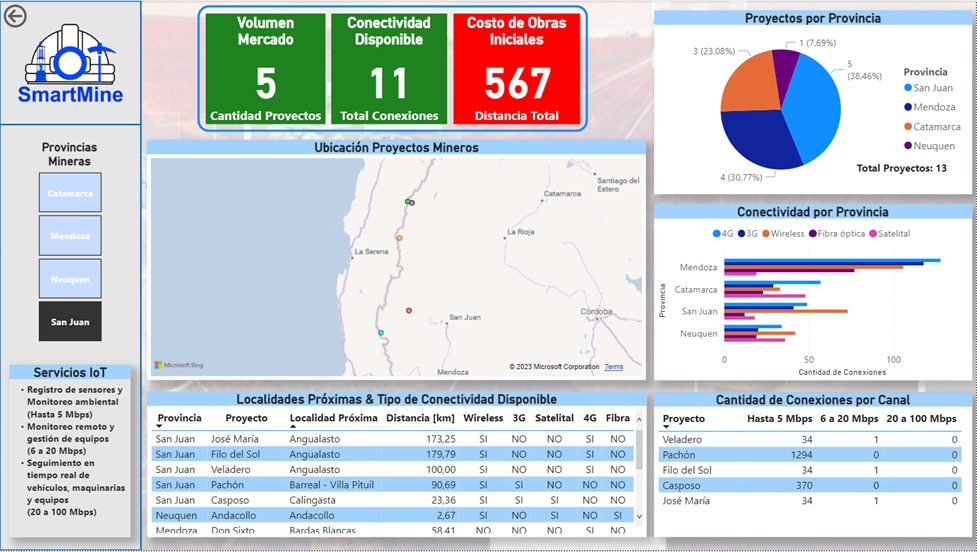

Layout of this report page (visuals, bound fields, positions):
{"tool":"powerbi","page":{"name":"Análisis","canvas":[1280,720],"ordinal":2},"visuals":[{"type":"shape","box":[0,0,184.6,720.2],"z":0},{"type":"shape","box":[259.3,6,512.3,166.5],"z":1000},{"type":"actionButton","box":[0,0,100,40],"z":2000},{"type":"map","title":"Ubicación Proyectos Mineros","fields":{"Y":["proy_mineros_tecno.Latitud"],"X":["proy_mineros_tecno.Longitud"],"Series":["proy_mineros_tecno.Proyecto"]},"box":[193.1,182.4,654.5,314.7],"z":3000},{"type":"slicer","title":"Provincias Mineras","fields":{"Values":["prov_mineras.Provincia"]},"box":[25.1,182.4,132.2,271.3],"z":4000},{"type":"tableEx","title":"Localidades Próximas & Tipo de Conectividad Disponible","fields":{"Values":["proy_mineros_tecno.Provincia","proy_mineros_tecno.Proyecto","proy_mineros_tecno.Local. Prox.","proy_mineros_tecno.Distancia","proy_mineros_tecno.WIRELESS","proy_mineros_tecno.3G","proy_mineros_tecno.SATELITAL","proy_mineros_tecno.4G","proy_mineros_tecno.FIBRAOPTICA"]},"box":[193.2,512.3,654.7,190.6],"z":5000},{"type":"card","title":"Volumen Mercado","fields":{"Values":["Count(proy_mineros_tecno.Proyecto)"]},"box":[270.2,16.8,157.3,144.8],"z":6000},{"type":"pieChart","title":"Proyectos por Provincia","fields":{"Category":["proy_mineros_tecno.Provincia"],"Y":["CountNonNull(proy_mineros_tecno.Proyecto)"]},"box":[858.2,12.5,417,241.3],"z":7000},{"type":"tableEx","title":"Cantidad de Conexiones por Canal","fields":{"Values":["serv_IoT_minero.Proyecto","serv_IoT_minero.Hasta 5 Mbps","serv_IoT_minero.6 a 20 Mbps","serv_IoT_minero.20 a 100 Mbps"]},"box":[858.2,512.6,417,190.2],"z":8000},{"type":"card","title":"Conectividad Disponible","fields":{"Values":["Sum(proy_mineros_tecno.Cantidad Conexiones)"]},"box":[434.3,16.8,151.6,144.8],"z":9000},{"type":"image","box":[17.3,6.9,149.2,149.2],"z":10000},{"type":"shape","box":[176,0,17.3,720.2],"z":11000},{"type":"shape","box":[0,156.1,184.6,12.1],"z":12000},{"type":"card","title":"Costo de Obras Iniciales","fields":{"Values":["Sum(proy_mineros_tecno.Distancia)"]},"box":[594.6,16.4,166,144.8],"z":13000},{"type":"clusteredBarChart","title":"Conectividad por Provincia","fields":{"Category":["Conectividad_RO.Provincia"],"Y":["Sum(Conectividad_RO.4G)","Sum(Conectividad_RO.3G)","Sum(Conectividad_RO.WIRELESS)","Sum(Conectividad_RO.FIBRAOPTICA)","Sum(Conectividad_RO.SATELITAL)"]},"box":[858.2,266.4,417,230.7],"z":13001},{"type":"textbox","title":"Servicios IoT","box":[12.5,476.9,159.3,225.9],"z":13002},{"type":"textbox","box":[1118.8,204.6,140.9,32.8],"z":13003}]}

Visuals, with their boxes on the page's 1280x720 design canvas (x1, y1, x2, y2). These are canvas units, not pixel positions in the 977x552 screenshot, which may show the page scaled, cropped or inside an application window:
shape: 0,0,185,720
shape: 259,6,772,172
actionButton: 0,0,100,40
"Ubicación Proyectos Mineros" map: 193,182,848,497
"Provincias Mineras" slicer: 25,182,157,454
"Localidades Próximas & Tipo de Conectividad Disponible" tableEx: 193,512,848,703
"Volumen Mercado" card: 270,17,428,162
"Proyectos por Provincia" pieChart: 858,12,1275,254
"Cantidad de Conexiones por Canal" tableEx: 858,513,1275,703
"Conectividad Disponible" card: 434,17,586,162
image: 17,7,166,156
shape: 176,0,193,720
shape: 0,156,185,168
"Costo de Obras Iniciales" card: 595,16,761,161
"Conectividad por Provincia" clusteredBarChart: 858,266,1275,497
"Servicios IoT" textbox: 12,477,172,703
textbox: 1119,205,1260,237
